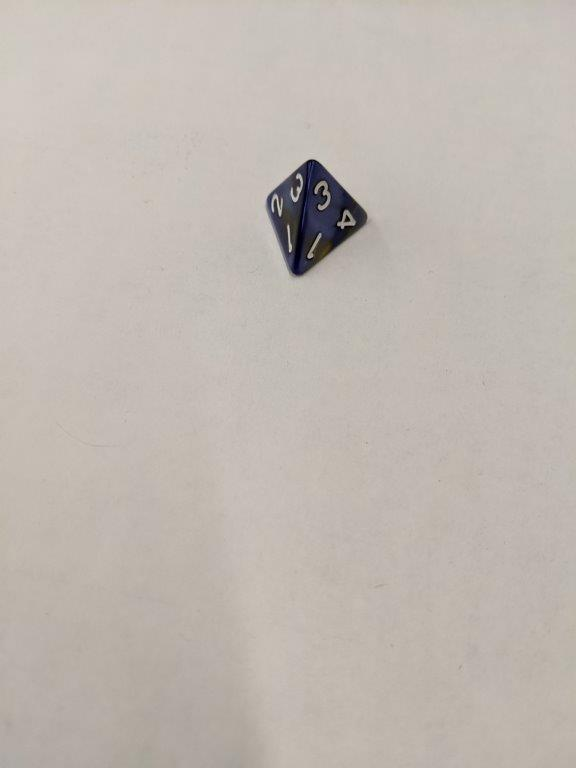d4-3: (264, 157, 370, 279)
